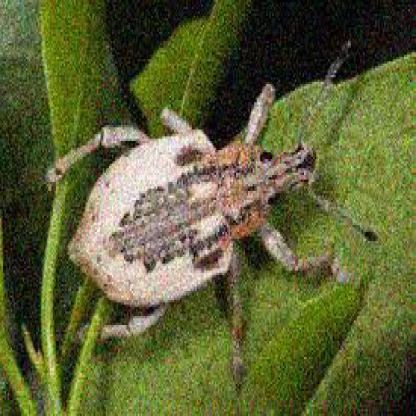ash weevil: (47, 52, 372, 344)
